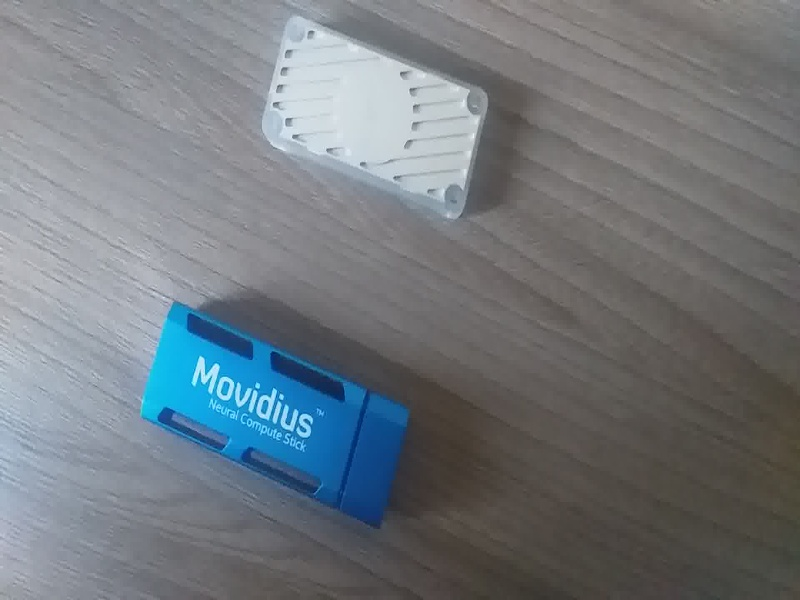coral: (253, 10, 500, 237)
movidius: (135, 297, 435, 532)
